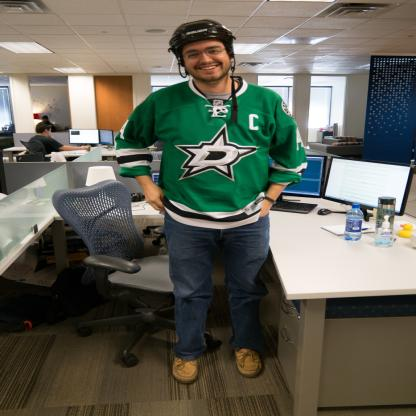Helmet: (166, 19, 238, 122)
